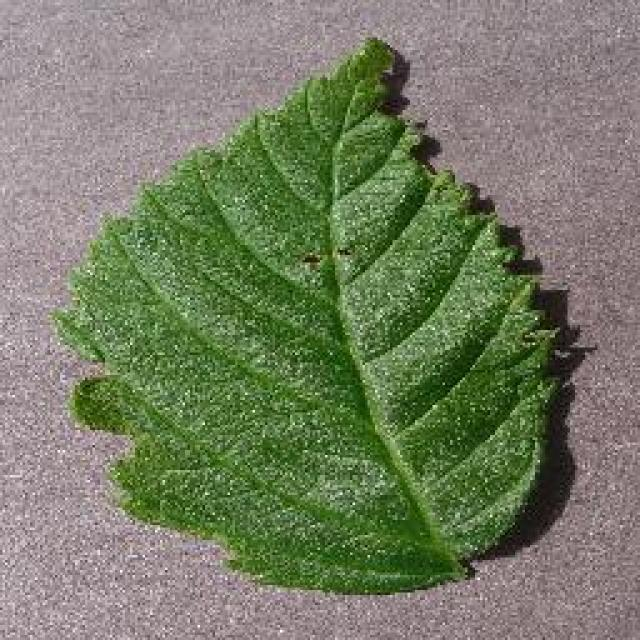Ras_healthy: (82, 119, 544, 571)
